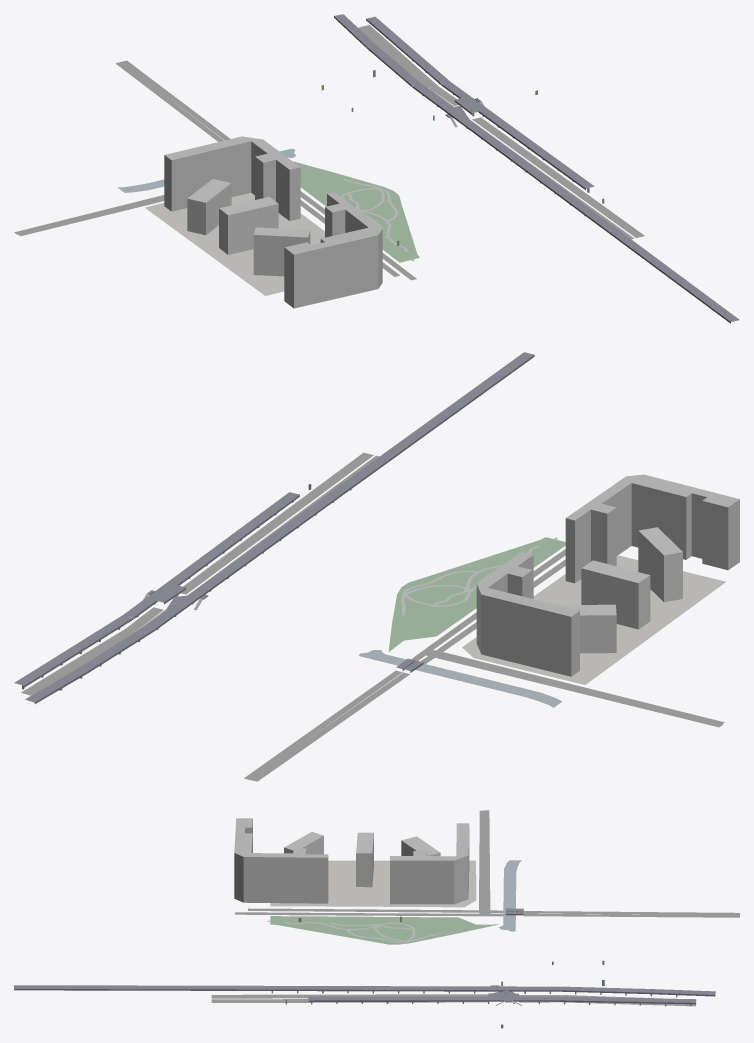
The picture shows the model from 3 angles, top to bottom: view 1: azimuth 30°, elevation 25°; view 2: azimuth 150°, elevation 25°; view 3: azimuth 270°, elevation 25°; orthographic projection. The views are drawn at different scales.
Size of the model in its own units: 619 by 60.81 by 861.
